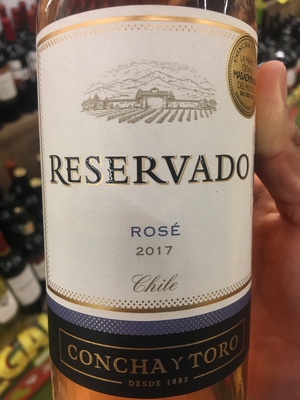reservado rose: (35, 1, 256, 400)
